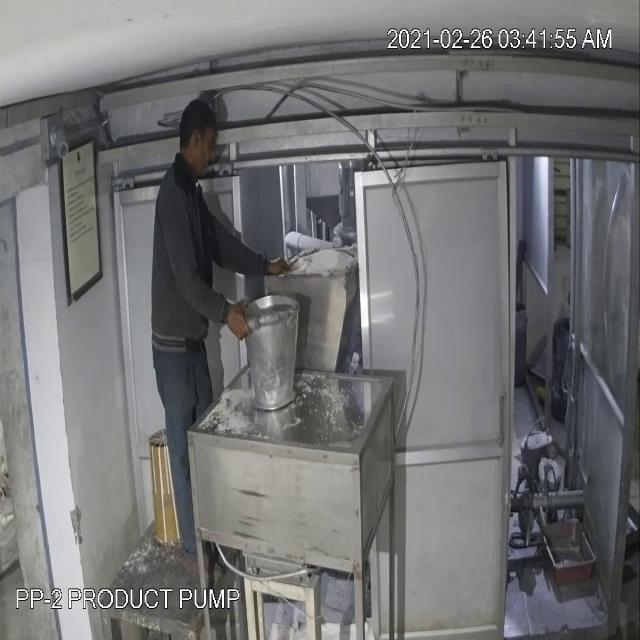no hat: (174, 100, 218, 182)
